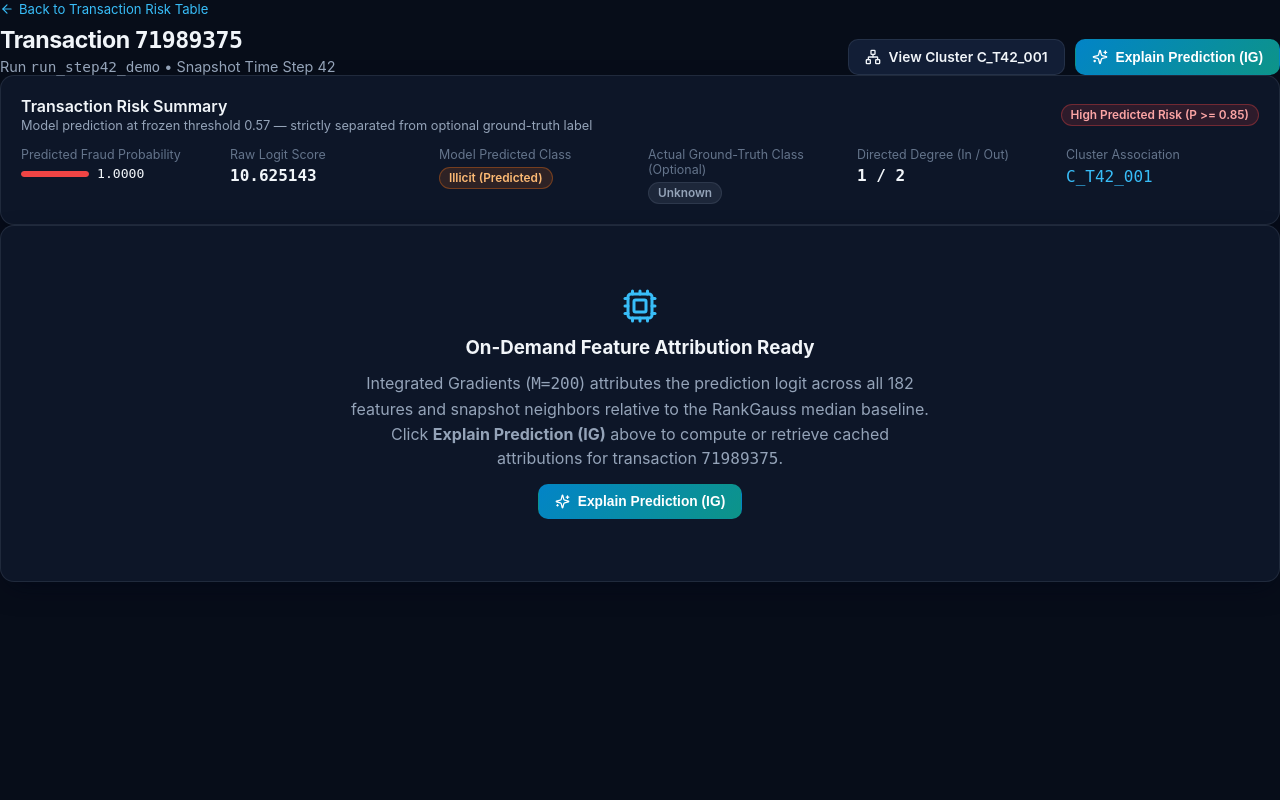
Scenario: TransactionDetailPage › loads risk summary without auto-calling explain, then fetches and displays IG attributions on demand
Expected: the heading "Transaction 71989375" is shown, [0,26,243,54]
Expected: the heading "On-Demand Feature Attribution Ready" is shown, [465,336,815,359]
Note: Request explanation on demand
Click the button "Explain Prediction (IG)" in the row of "View Cluster": {"x": 1177, "y": 57} [1074,39,1279,75]
(page scrolled)
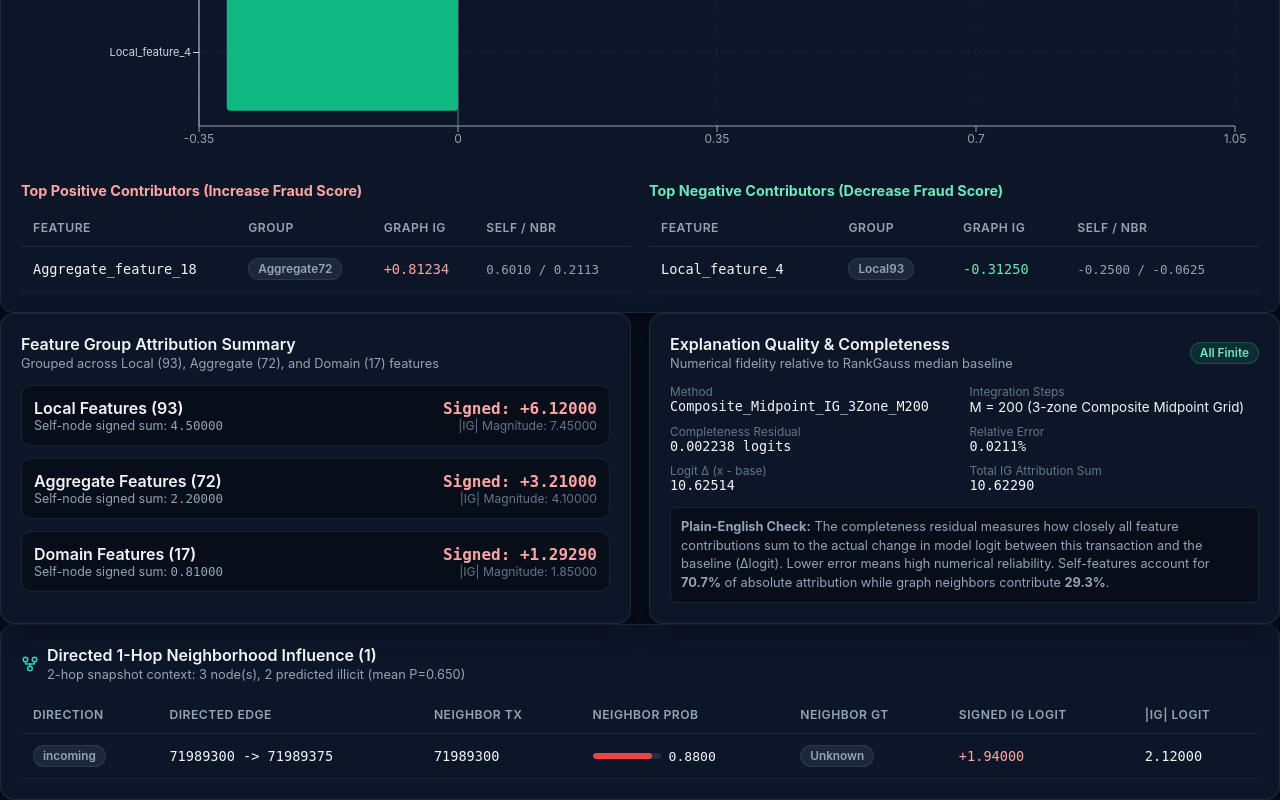
Now the text "Composite_Midpoint_IG_3Zone_M200" is shown, box [670,399,960,414]
Now the text "Local Features (93)" is shown, box [34,398,184,418]
Now the text "Aggregate Features (72)" is shown, box [34,471,223,491]
